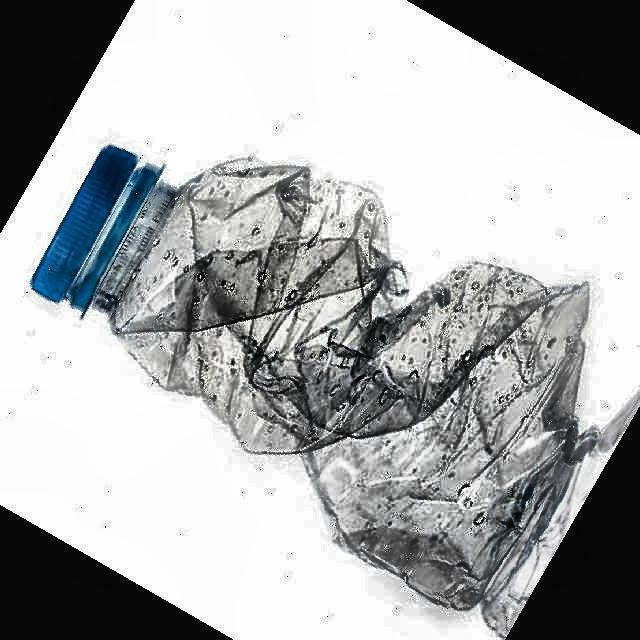plastic: (32, 146, 589, 608)
